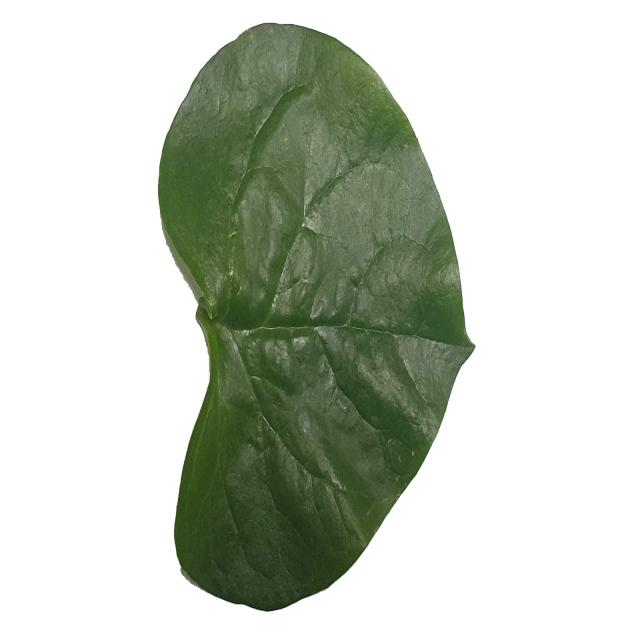Medicinal-Basale: (158, 19, 477, 613)
